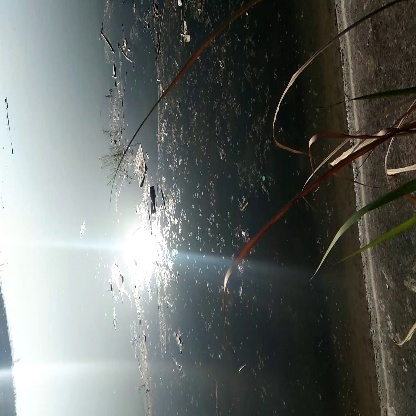plastic-garbage: (131, 145, 151, 186)
